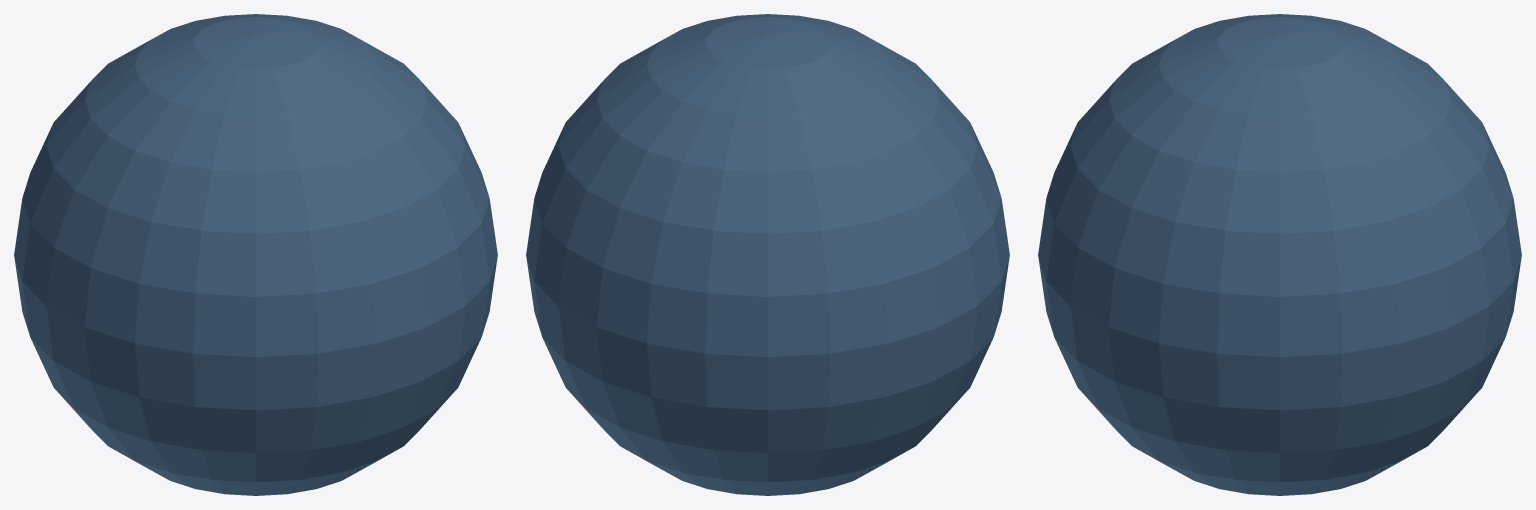
Rendered from shelf.glb.
3 views of the same model, side by side, from view 1: azimuth 30°, elevation 25°; view 2: azimuth 150°, elevation 25°; view 3: azimuth 270°, elevation 25° (orthographic).
Visible parts, largest first — view 1: stage:shell; view 2: stage:shell; view 3: stage:shell.
Part boxes in pixels (x1,y1,x2,y2): stage:shell: (14,14,497,495); stage:shell: (526,14,1009,495); stage:shell: (1038,14,1521,495).
Size of the model in its own units: 10 by 10 by 10.
